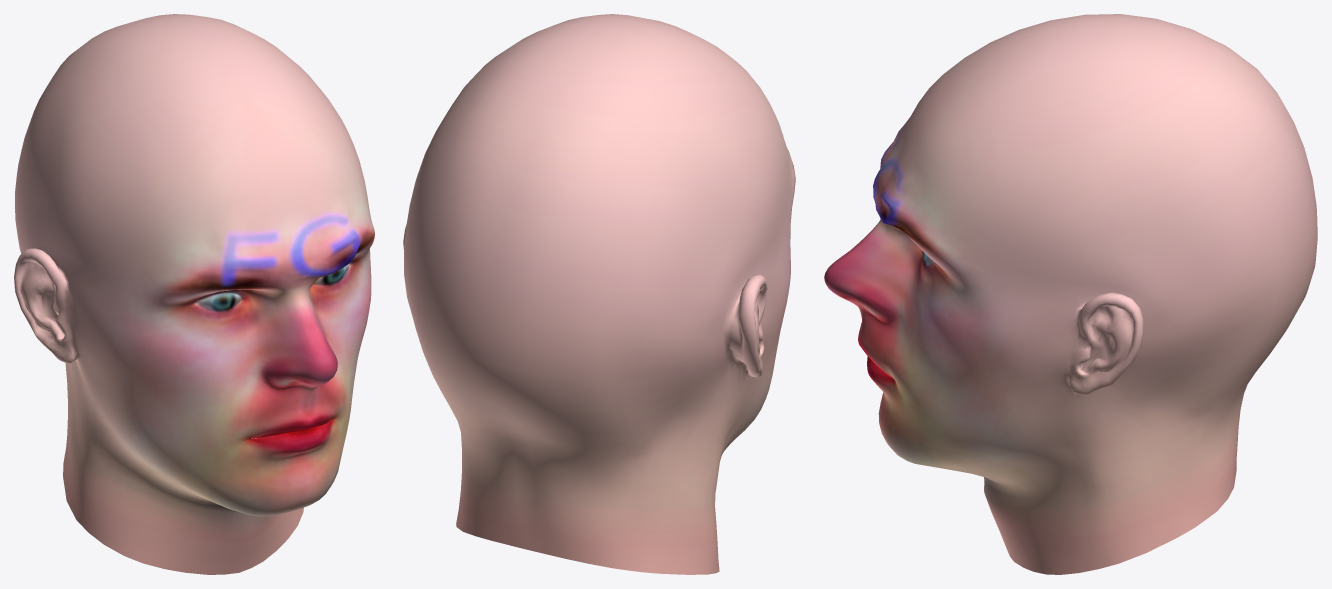
The model's file is avg_anyrace_male_14.obj.
3 views of the same model, side by side, from view 1: azimuth 30°, elevation 25°; view 2: azimuth 150°, elevation 25°; view 3: azimuth 270°, elevation 25° (orthographic). The views are drawn at different scales.
Visible parts, largest first — view 1: HeadHires; view 2: HeadHires; view 3: HeadHires.
Boxes of the visible parts, <box> form: HeadHires: <box>14,14,374,574</box>; HeadHires: <box>403,14,795,574</box>; HeadHires: <box>824,14,1317,574</box>.
Size of the model in its own units: 190 by 282 by 242.
Materials: 1 (1 with a texture image).
